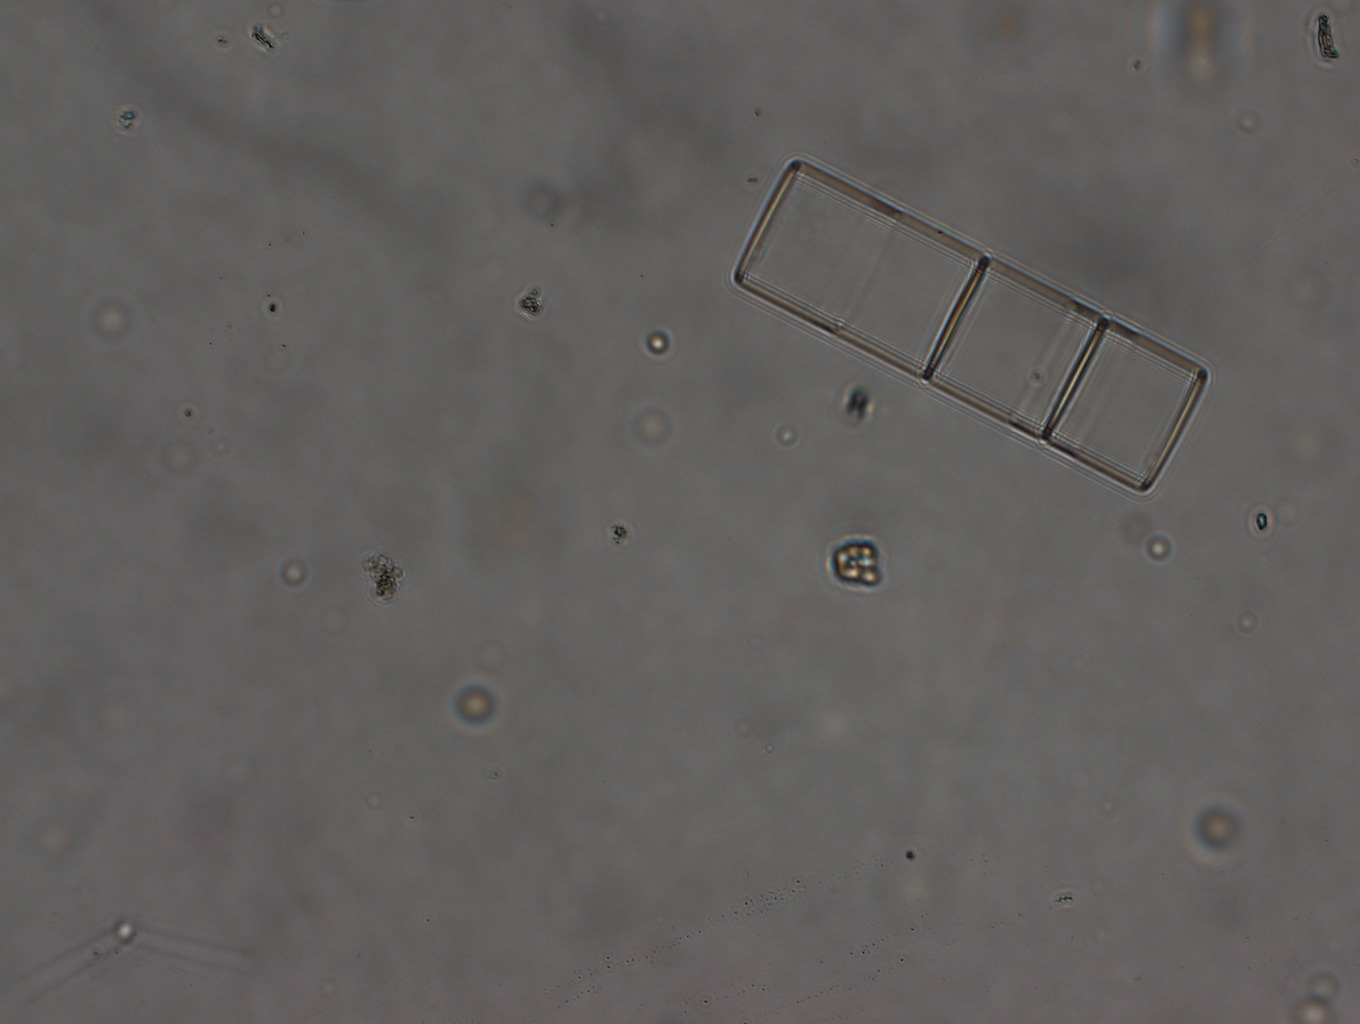guinardia flaccida: (720, 144, 1213, 500)
